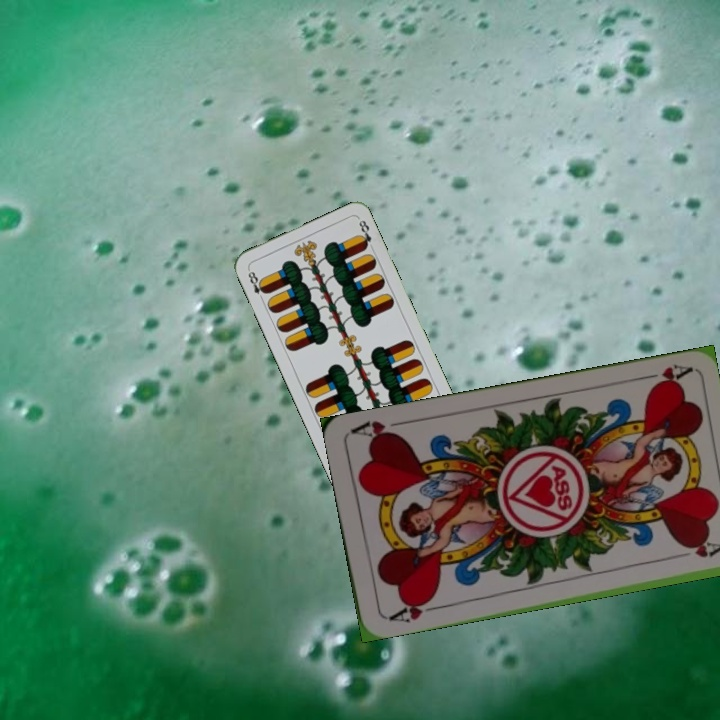E8: (244, 265, 269, 304)
HA: (382, 593, 441, 625), (633, 360, 692, 391)
